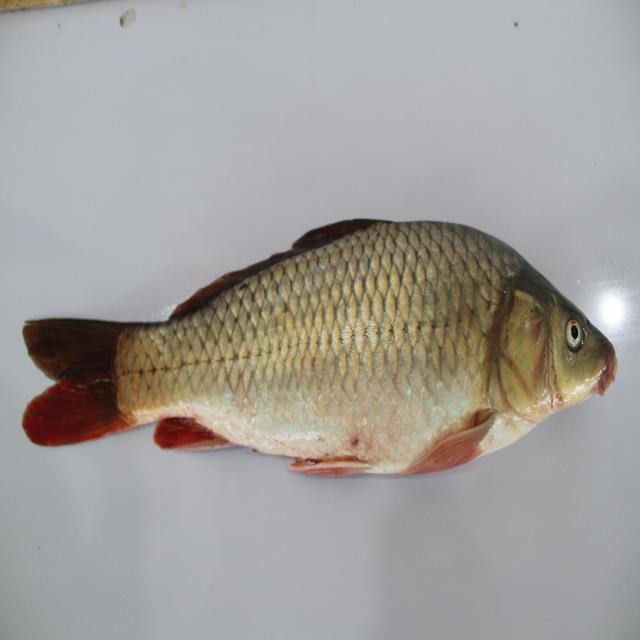CommonCarp: (20, 206, 627, 494)
